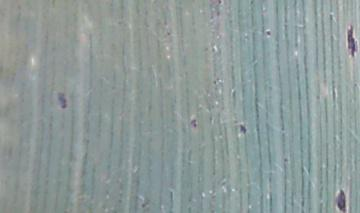tarspot: (345, 22, 360, 60), (334, 187, 348, 213), (55, 89, 70, 110), (238, 121, 247, 136), (189, 118, 198, 128), (264, 29, 273, 38), (140, 201, 149, 209), (210, 45, 217, 54), (215, 9, 221, 18), (328, 13, 334, 22), (211, 78, 217, 87), (282, 156, 289, 163), (165, 30, 172, 37), (249, 1, 255, 6), (217, 1, 223, 5)
